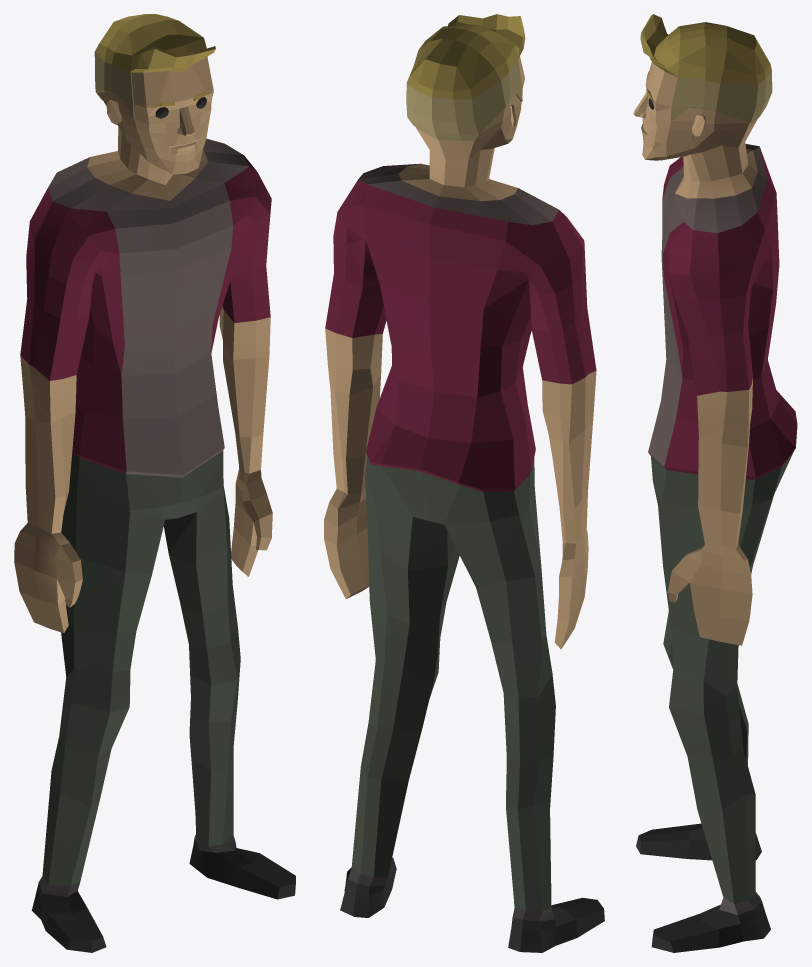
File: jack.glb
3 renders of one model, left to right at view 1: azimuth 30°, elevation 25°; view 2: azimuth 150°, elevation 25°; view 3: azimuth 270°, elevation 25°, orthographic. The views are drawn at different scales.
Visible parts, largest first — view 1: BaseHuman; view 2: BaseHuman; view 3: BaseHuman.
Boxes of the visible parts, x1=… form: BaseHuman: x1=14, y1=14, x2=295, y2=952; BaseHuman: x1=324, y1=14, x2=604, y2=952; BaseHuman: x1=633, y1=14, x2=797, y2=952.
Bounding box in the file's own units: 1.42 × 4.82 × 0.8267.
